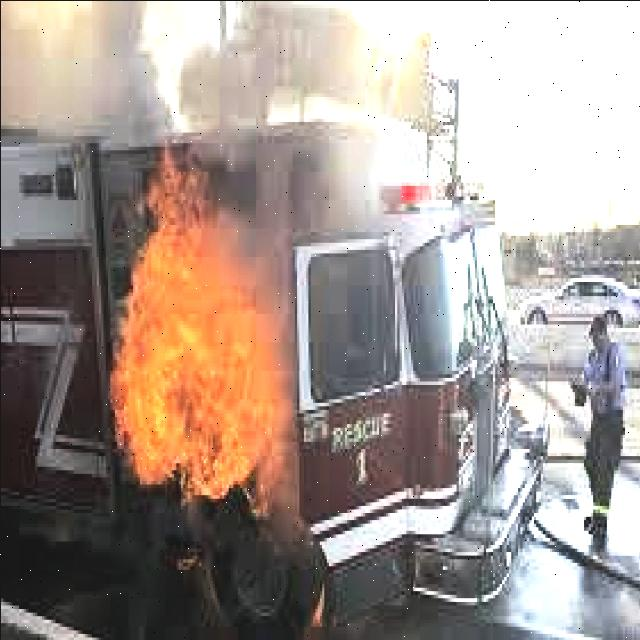api: (97, 172, 320, 510)
